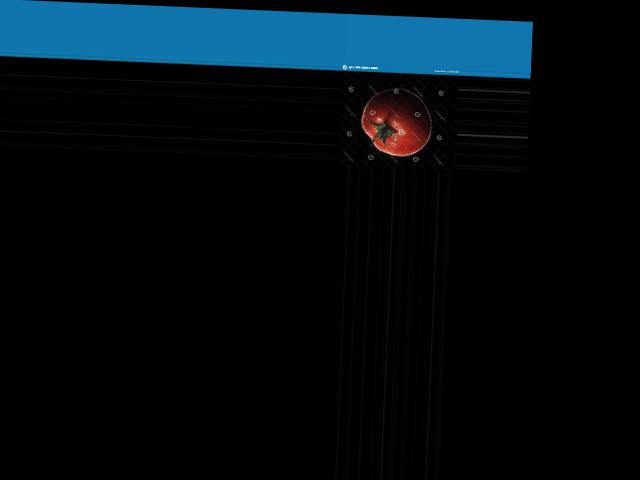tomato: (360, 87, 434, 157)
